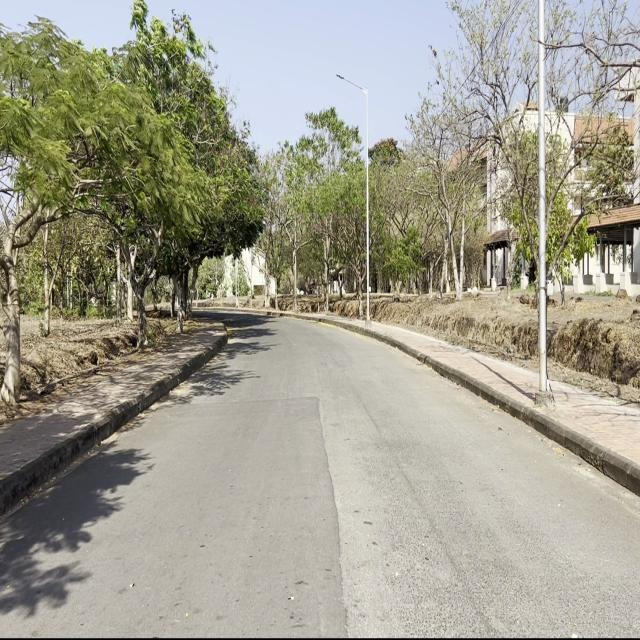Road: (1, 310, 639, 638)
